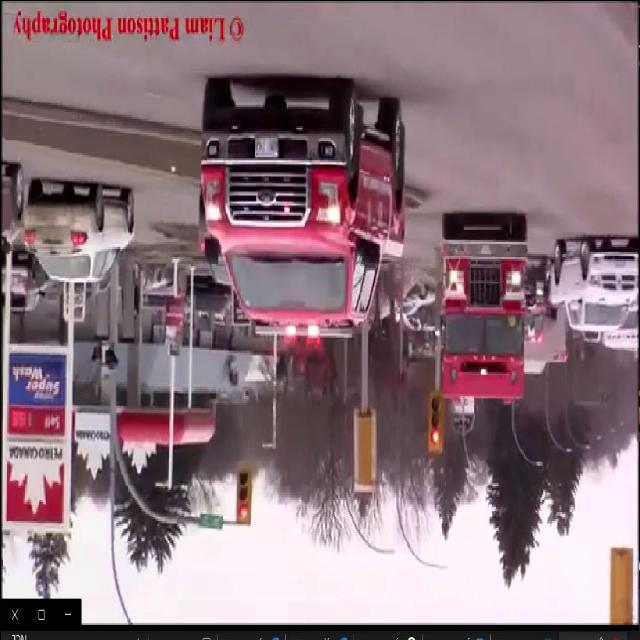emergency: (202, 69, 408, 350), (438, 204, 528, 406), (518, 256, 548, 351)
